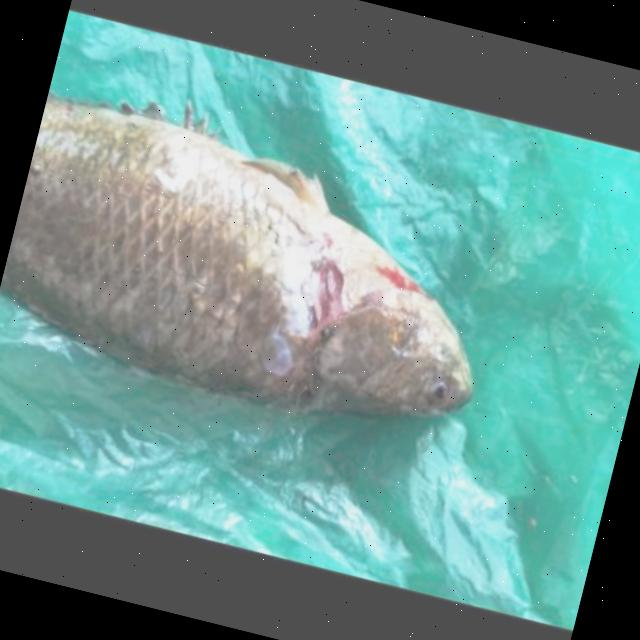Flavobacterium -Bacterial Gill Disease-: (0, 96, 470, 413)
